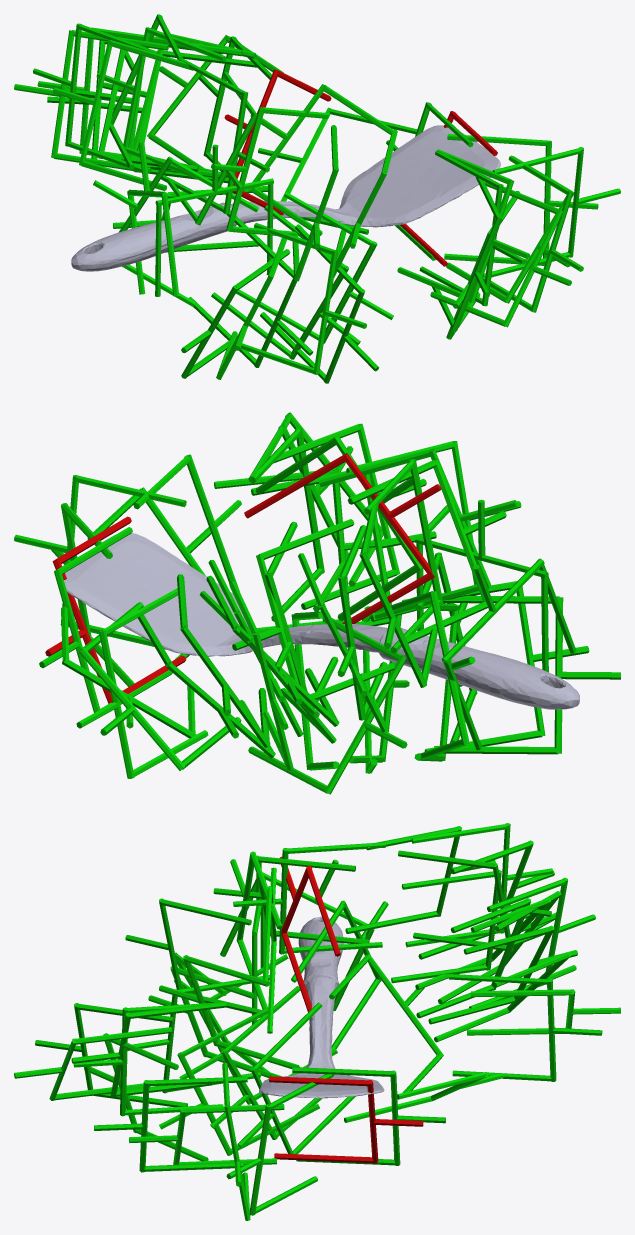
File: instantmesh_gt_grasps.glb
3 views of the same model, one above another, from view 1: azimuth 30°, elevation 25°; view 2: azimuth 150°, elevation 25°; view 3: azimuth 270°, elevation 25° (orthographic). The views are drawn at different scales.
Visible parts, largest first — view 1: world; view 2: world; view 3: world.
Boxes of the visible parts, box(x1,y1,x2,y2) form: world: box(14, 14, 620, 383); world: box(14, 412, 620, 794); world: box(14, 823, 620, 1220).
Bounding box in the file's own units: 0.3854 × 0.209 × 0.4045.
